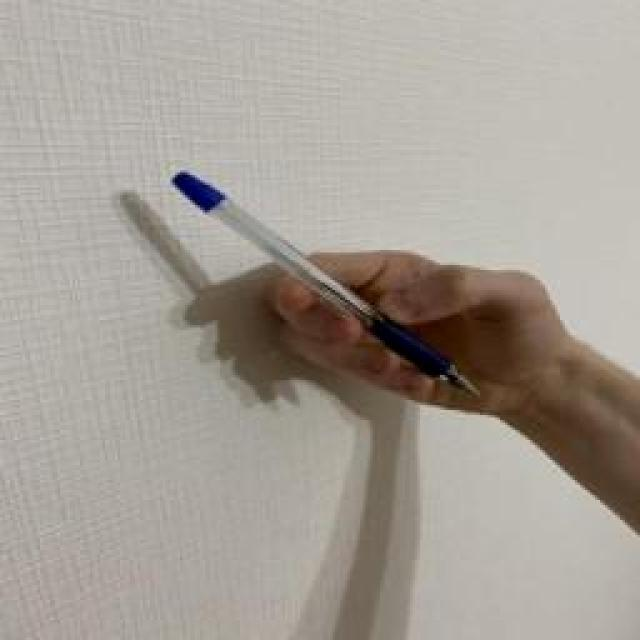pen: (170, 170, 483, 400)
